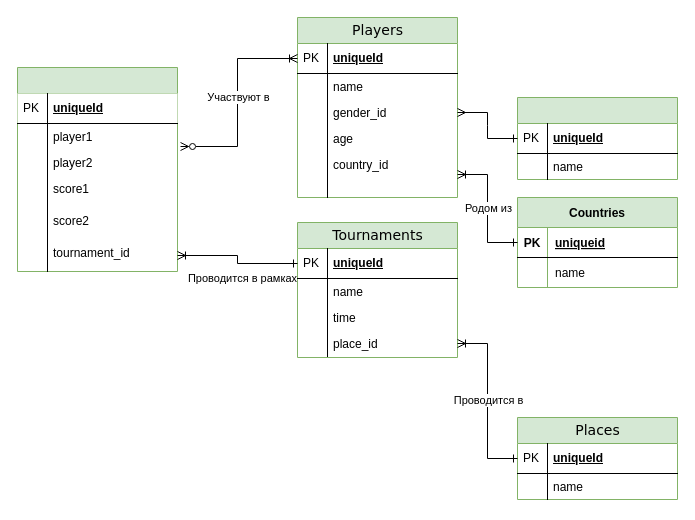
Some shapes in this 695 by 520 pixel diagram are drawn without their labels. The box of each missing label's shape, as (x1, y1, x2, y2) in pixels:
Genders: (516, 96, 678, 180)
Matches: (16, 66, 178, 272)
